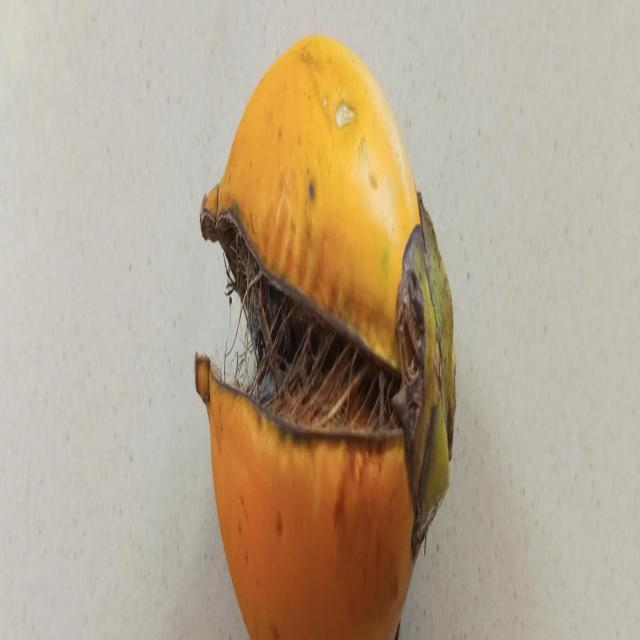damaged: (194, 36, 456, 640)
